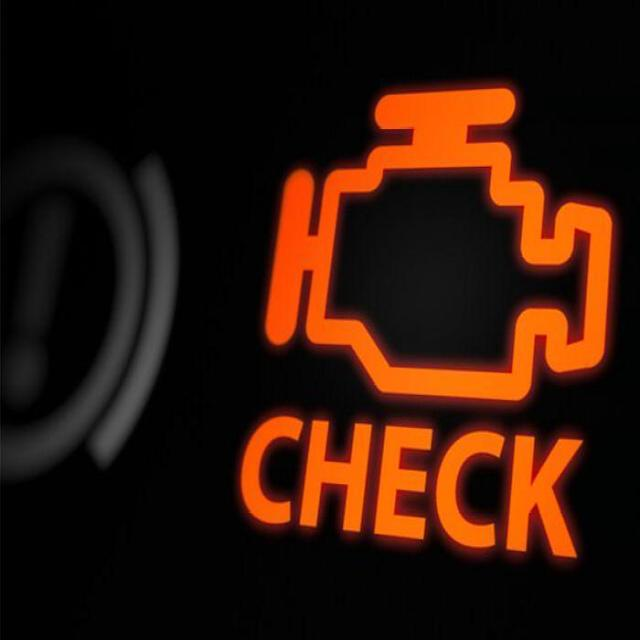kontrolka: (208, 68, 615, 589)
